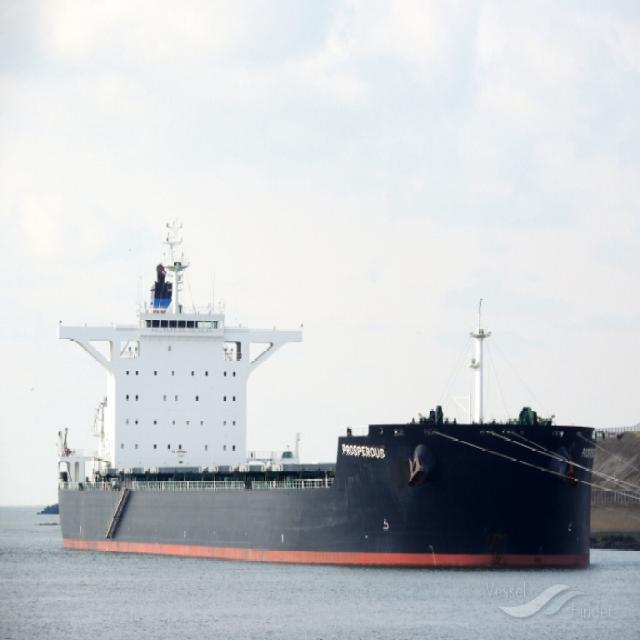OCR: (339, 440, 387, 468)
